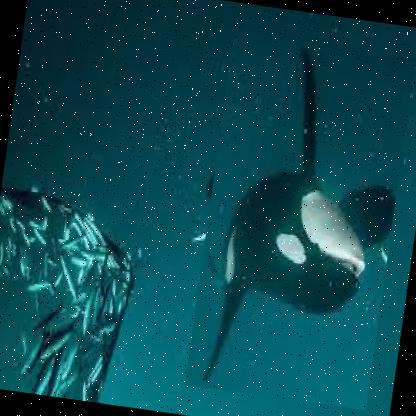killer_whale: (184, 32, 415, 411)
